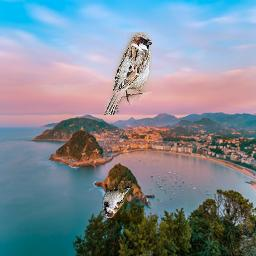Sparrow: (104, 33, 152, 116), (103, 184, 132, 218)
